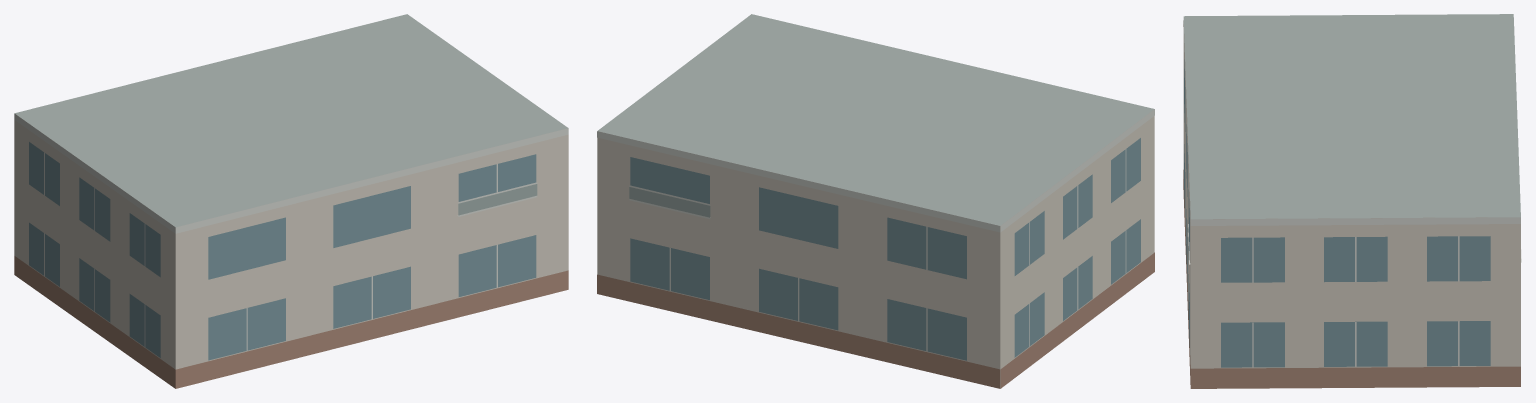
The model's file is survey-upis-32710197.glb.
3 views of the same model, side by side, from view 1: azimuth 30°, elevation 25°; view 2: azimuth 150°, elevation 25°; view 3: azimuth 270°, elevation 25° (orthographic). The views are drawn at different scales.
Parts seen in each view (by area): view 1: survey-upis-32710197.tmp; view 2: survey-upis-32710197.tmp; view 3: survey-upis-32710197.tmp.
Boxes of the visible parts, <box> form: survey-upis-32710197.tmp: <box>14,14,568,388</box>; survey-upis-32710197.tmp: <box>597,14,1154,388</box>; survey-upis-32710197.tmp: <box>1183,14,1521,388</box>.
Bounding box in the file's own units: 15.84 × 6.1 × 11.03.
